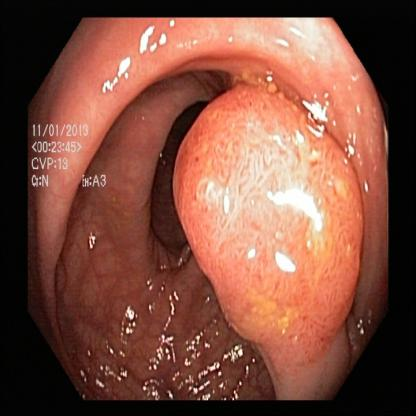Labels: (30, 114, 115, 208)
Polyps: (179, 89, 360, 345)
